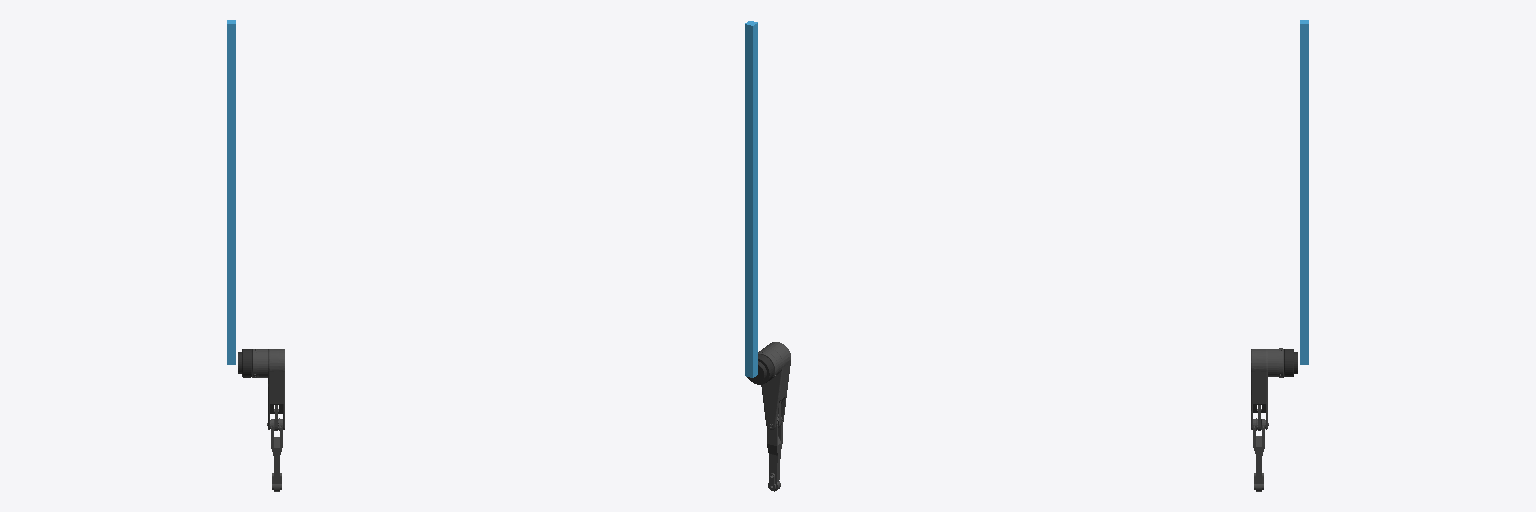
The robot description file, URDF, robot "marten-single-leg":
<?xml version="1.0" ?>

<!-- TODO: inertia should be updated -->
<robot name="marten-single-leg">
  <material name="black">
    <color rgba="0.0 0.0 0.0 1.0"/>
  </material>

  <material name="light_gray">
     <color rgba="0.75 0.75 0.75 1.0"/>
  </material>

  <material name="black1">
      <color rgba="0.25 0.25 0.25 1.0"/>
  </material>

  <material name="black2">
      <color rgba="0.35 0.35 0.35 1.0"/>
  </material>
  <link name="world"/>
  <joint name="fixed" type="fixed">
    <parent link="world"/>
    <child link="base"/>
  </joint>

  <link name="base">
    <visual>
      <origin rpy="0 0 0" xyz="0 0 0.5"/>
      <geometry>
        <box size="0.025 0.025 1.0"/>
      </geometry>
      <material name="white"/>
    </visual>

    <collision>
        <origin rpy="0 0 0" xyz="0 0 0.5"/>
      <geometry>
        <box size="0.025 0.025 1.0"/>
      </geometry>
    </collision>

    <inertial>
      <mass value="10"/>
      <inertia ixx="1.0" ixy="0.0" ixz="0.0" iyy="1.0" iyz="0.0" izz="1.0"/>
    </inertial>
  </link>

  <joint name="linear_guide" type="prismatic">
    <origin rpy="0 0 0" xyz="0 -0.025 0.0"/>
    <parent link="base"/>
    <child link="hip_1"/>
    <axis xyz="0 0 1"/>
  </joint>

  <link name="hip_1">
      <visual>
        <origin rpy="0 0 1.570796" xyz="0.0 -0.03 0.0"/>
        <geometry>
          <mesh filename="hip.STL" />
        </geometry>
        <material name="black1"/>
      </visual>

      <collision>
        <origin rpy="-1.570796 0 0" xyz="0.0 -0.03 0.0"/>
        <geometry>
          <cylinder length="0.04" radius="0.038"/>
        </geometry>
      </collision>

      <inertial>
        <origin rpy="-1.570796 0 0" xyz="0.0 0 0.0"/>
        <mass value="0.337"/>
        <inertia ixx="0.00016382" ixy="0.0" ixz="0.0" iyy="0.000243955" iyz="0.0" izz="0.00016382"/>
      </inertial>
  </link>

  <joint name="hip_pitch" type="revolute">
    <origin rpy="0 0 0" xyz="0 -0.03 0.0"/>
    <parent link="hip_1"/>
    <child link="hip_2"/>
    <axis xyz="0 -1 0"/>
  </joint>

  <link name="hip_2">

    <inertial>
      <origin rpy="-1.570796 0 0" xyz="0.0 0 0.0"/>
      <mass value="0.337"/>
      <inertia ixx="0.00016382" ixy="0.0" ixz="0.0" iyy="0.000243955" iyz="0.0" izz="0.00016382"/>
    </inertial>
  </link>

  <joint name="hip_upper" type="fixed">
    <origin rpy="0 0 0" xyz="0 0 0"/>
    <parent link="hip_2"/>
    <child link="upper_leg"/>
  </joint>

  <link name="upper_leg">
    <visual>
      <origin rpy="2.126394 0 1.570796" xyz="0 0 0"/>
      <geometry>
        <mesh filename="thigh.STL" />
      </geometry>
      <material name="black2"/>
    </visual>
    <collision>
      <origin rpy="0 0 0" xyz="0 -0.06 -0.09"/>
      <geometry>
        <box size="0.035 0.04 0.18"/>
      </geometry>
    </collision>

    <inertial>
      <origin rpy="0 0 0" xyz="0 -0.06 -0.09"/>
      <mass value="0.171"/>
      <inertia ixx="0.000493178" ixy="0.0" ixz="0.0" iyy="0.000503253" iyz="0.0" izz="0.0000730313"/>
    </inertial>
  </link>

  <joint name="knee_pitch" type="revolute">
    <origin rpy="0 0 0" xyz="0 -0.065 -0.18"/>
    <parent link="upper_leg"/>
    <child link="lower_leg"/>
    <axis xyz="0 -1 0"/>
  </joint>

  <link name="lower_leg">
    <visual>
      <origin rpy="0.9425 0 1.570796" xyz="0 0.015 0"/>
      <geometry>
        <mesh filename="calf.STL" />
      </geometry>
      <material name="black2"/>
    </visual>
    <collision>
      <origin rpy="0 0 0" xyz="0 0 -0.18"/>
      <geometry>
        <sphere radius="0.010"/>
      </geometry>
      </collision>
    <inertial>
      <origin rpy="0 0 0" xyz="0 0 -0.09"/>
      <mass value="0.171"/>
      <inertia ixx="0.000493178" ixy="0.0" ixz="0.0" iyy="0.000503253" iyz="0.0" izz="0.0000730313"/>
    </inertial>
  </link>
</robot>

--- Render facts (derived) ---
The picture shows the robot from 3 angles, left to right: view 1: azimuth 90°, elevation 25°; view 2: azimuth 150°, elevation 25°; view 3: azimuth 270°, elevation 25°; orthographic projection.
Robot: marten-single-leg — 6 links, 5 joints (2 revolute, 1 prismatic, 2 fixed); root link world; default pose: all joints at 0.
Links seen in each view (by area): view 1: base, upper_leg, lower_leg; view 2: base, upper_leg, lower_leg; view 3: base, upper_leg, lower_leg.
Link boxes in pixels (box(x1,y1,x2,y2)): base: box(227, 20, 235, 364); upper_leg: box(252, 349, 284, 430); lower_leg: box(271, 419, 282, 491); base: box(745, 21, 757, 377); upper_leg: box(758, 342, 790, 429); lower_leg: box(767, 414, 782, 491); base: box(1300, 20, 1308, 364); upper_leg: box(1251, 348, 1283, 430); lower_leg: box(1253, 419, 1264, 491).
Size in the robot's own frame: 0.078 by 0.156 by 1.38 metres.
Meshes: 3 distinct files referenced, 3 mesh visuals loaded (3 binary STL).
